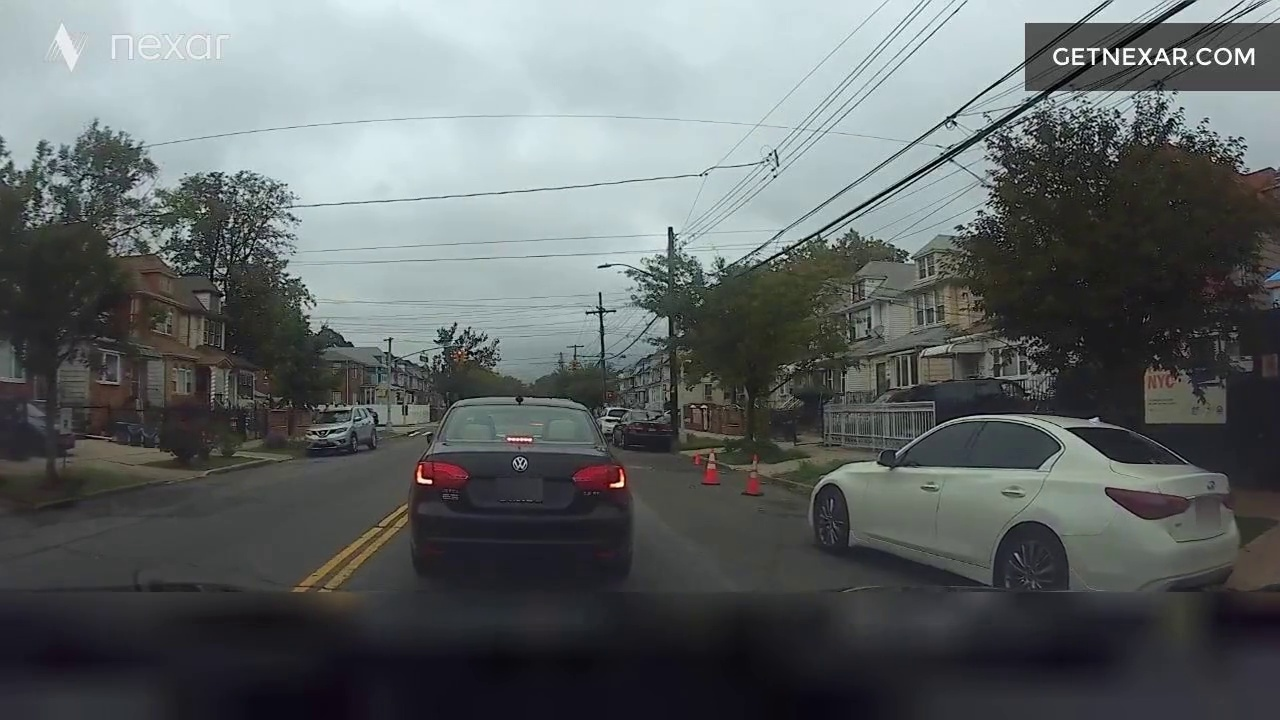car: (814, 343, 1264, 638), (408, 381, 632, 591), (255, 403, 385, 469), (635, 395, 672, 463)
traffic light: (438, 328, 478, 372)
